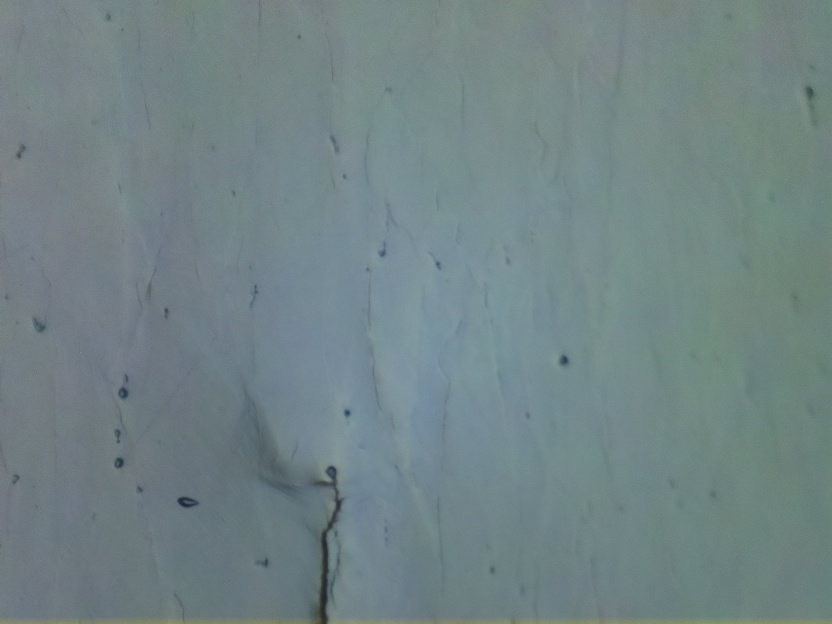crack: (315, 484, 348, 624)
